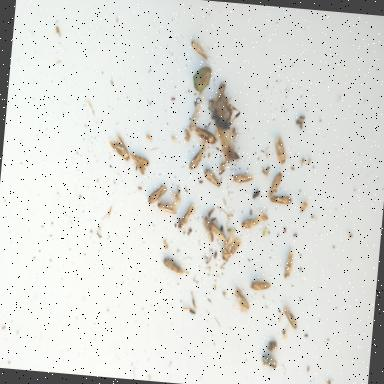pbw: (178, 202, 201, 232), (221, 230, 242, 262), (107, 134, 131, 162), (159, 256, 191, 276), (282, 304, 302, 334), (232, 286, 252, 314), (192, 128, 218, 149), (190, 40, 214, 61), (272, 136, 288, 166), (210, 80, 226, 110), (188, 146, 206, 172), (146, 184, 167, 206), (210, 222, 228, 246), (202, 167, 222, 188), (228, 172, 256, 186), (268, 172, 282, 200), (188, 104, 201, 134), (201, 216, 215, 242), (156, 199, 178, 215), (283, 248, 293, 280), (240, 216, 260, 232), (130, 154, 150, 167), (269, 195, 292, 206), (250, 280, 270, 292), (136, 164, 146, 176)
